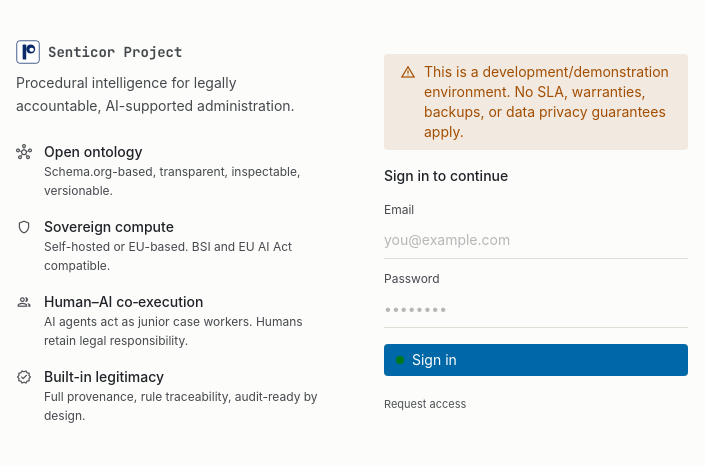
Test: LoginPage › displays network error for TypeError
Step 1. Type "test@example.com" into the field labelled "Email" → (536, 240), box [384,222,688,259]
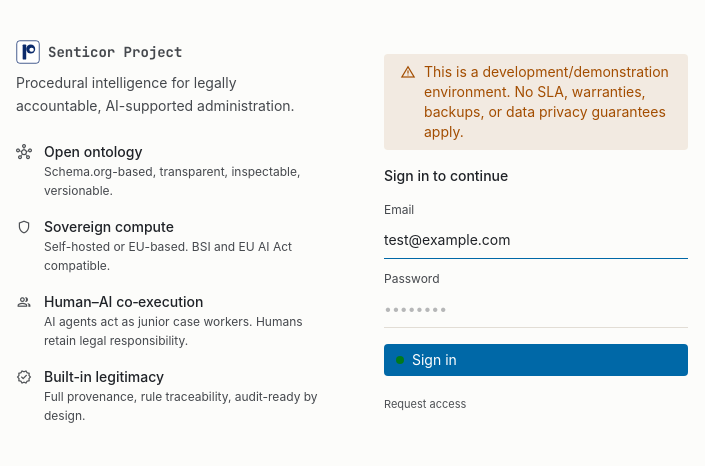
Step 2. Type "password1" into the password field labelled "Password" → (536, 309), box [384,291,688,328]
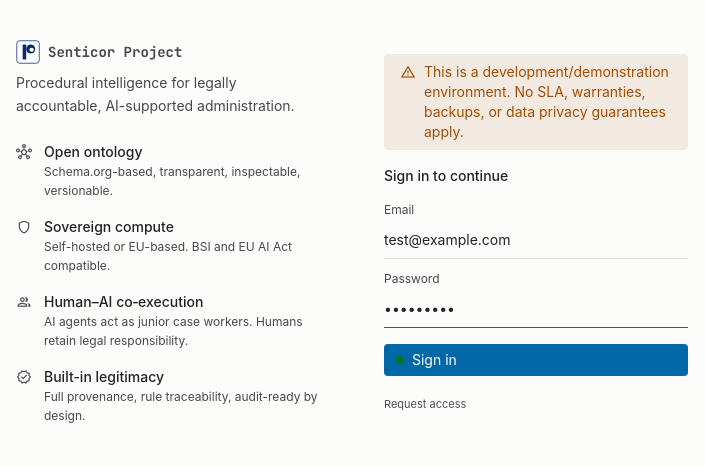
Step 3. Click the button "Sign in" → click(434, 359), box [384,344,688,376]
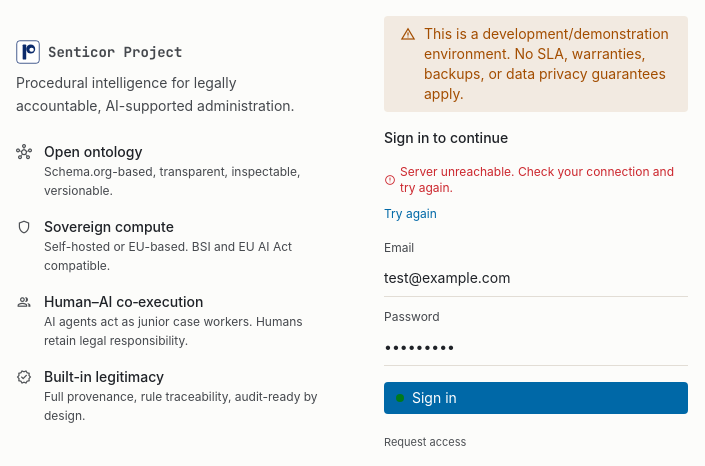
Now the message "Server unreachable. Check your connection and try again." is shown, box [400,164,688,196]
